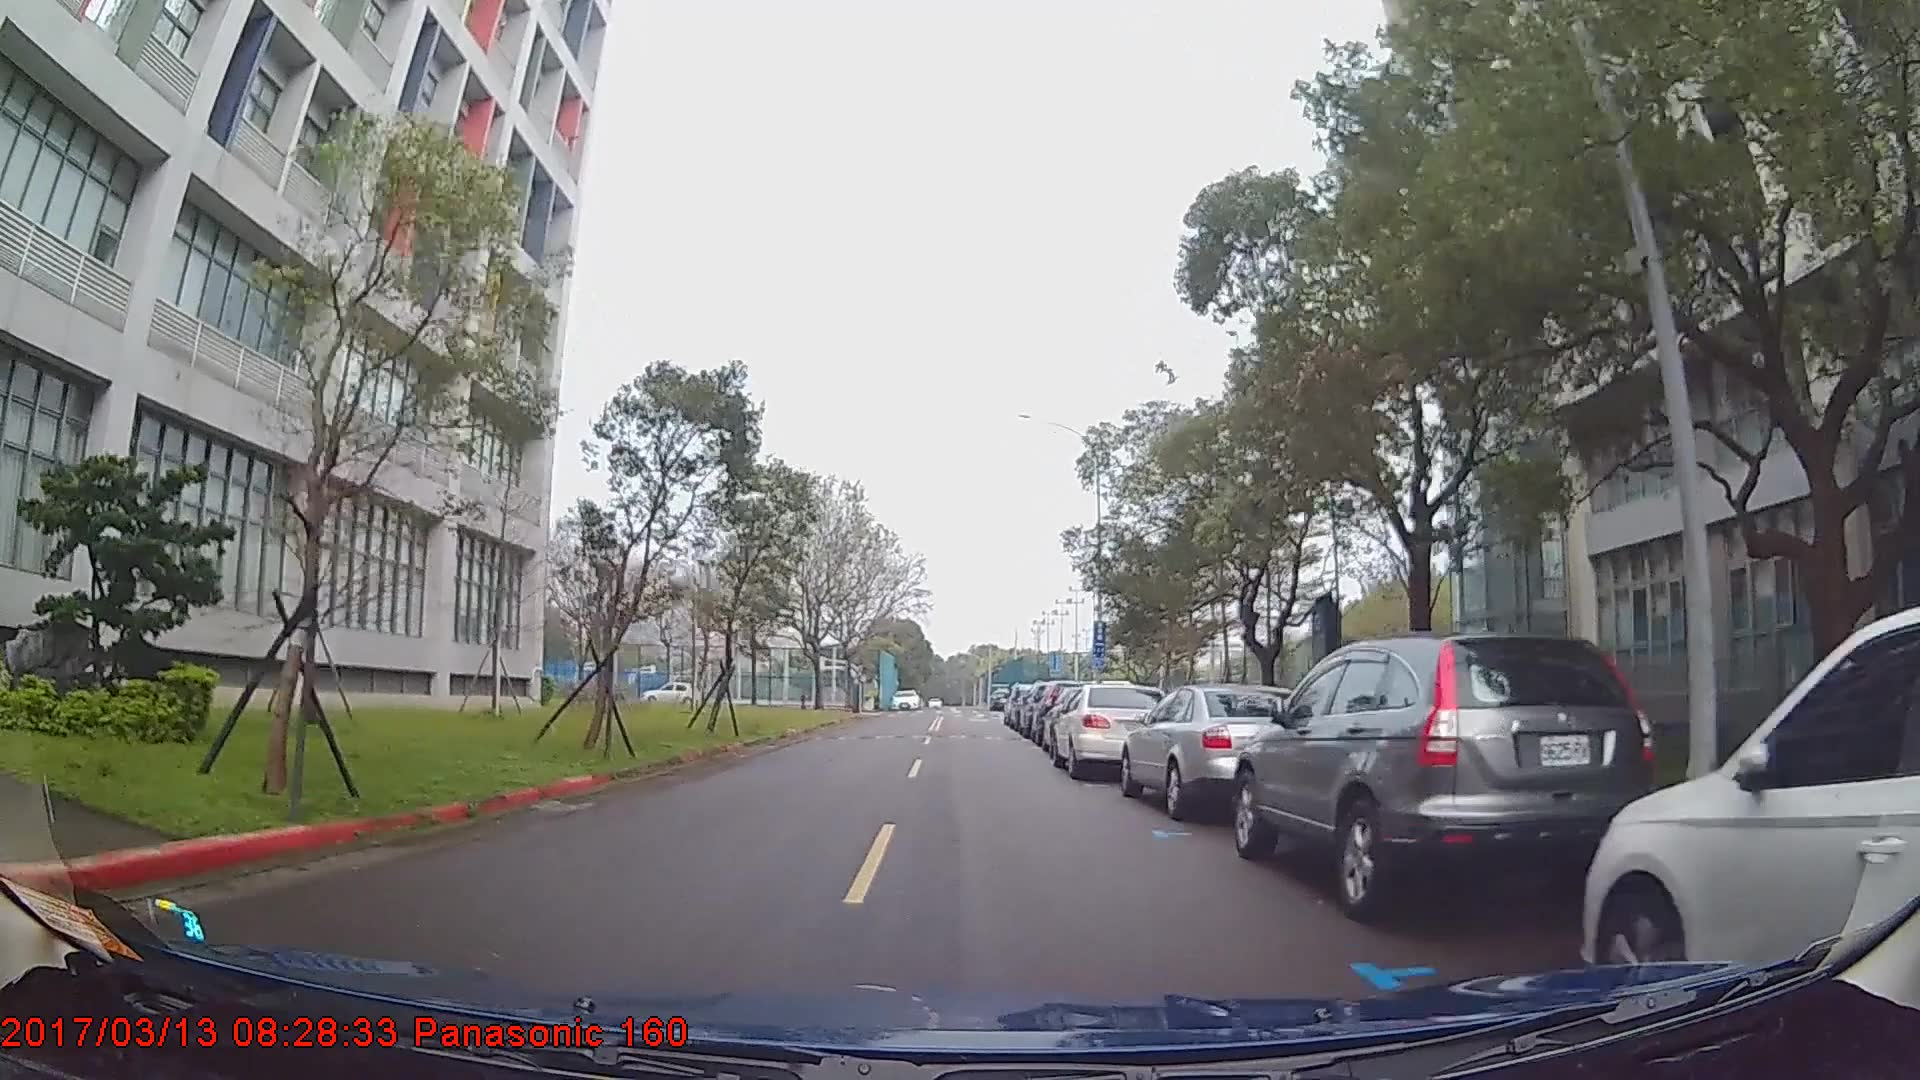vehicle: (1582, 607, 1920, 1006), (1234, 632, 1656, 924), (1117, 680, 1308, 820), (1050, 680, 1174, 781), (641, 676, 696, 704)
